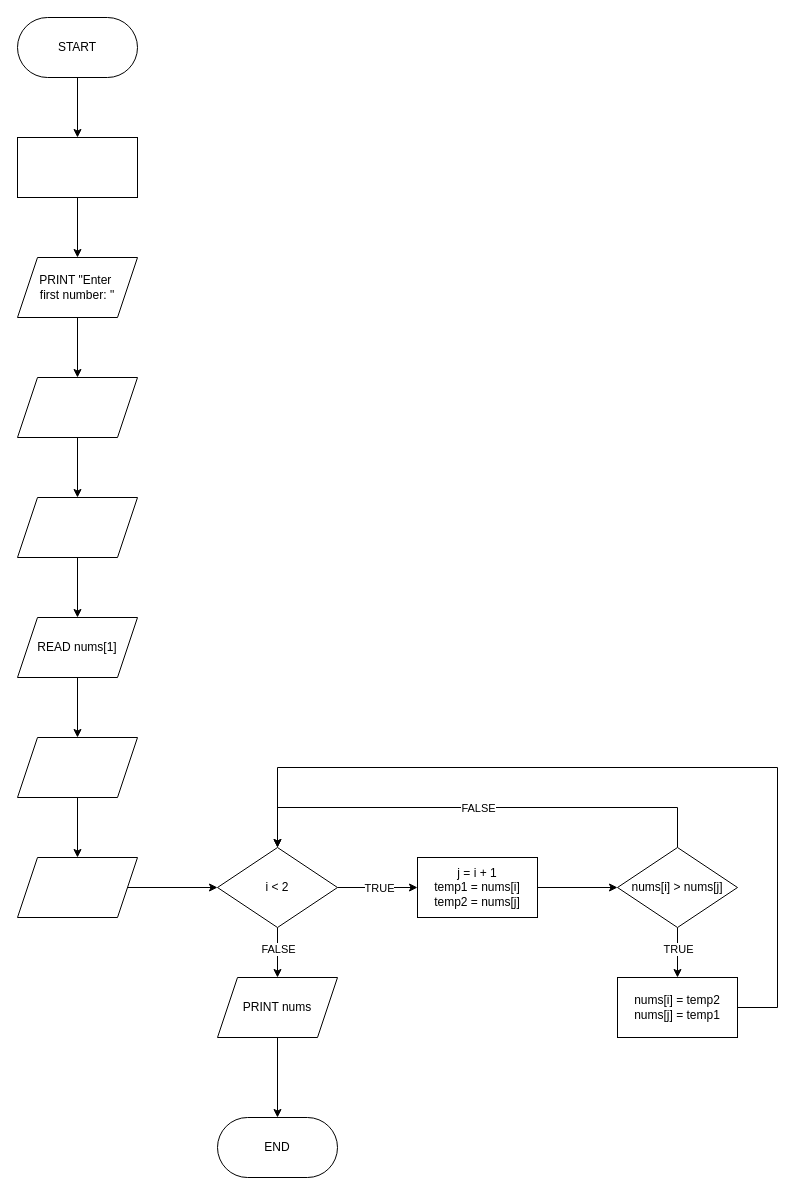
Image size: 803x1195. Some labels were removed from this diagram. Each missing label, with the centre of its shape:
nums[3] i = 0 j = 1: point 77,167
PRINT "Enter second number: ": point 77,527
PRINT "Enter third number: ": point 77,767
READ nums[0]: point 77,407
READ nums[2]: point 77,887
